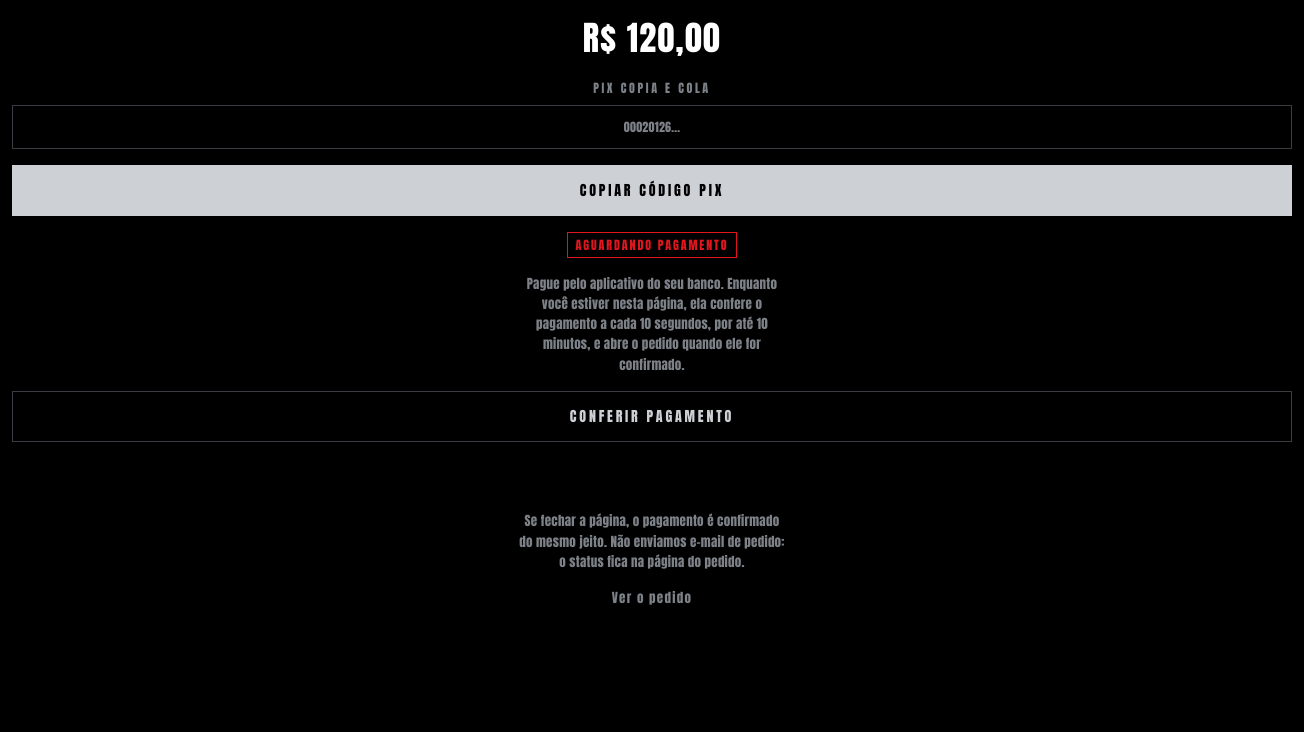
Test: o botao Conferir pagamento › sem novidade: diz que ainda nao apareceu, como status, e fica
This screenshot has width=1304, height=732.
Click the button "Conferir pagamento". click: (652, 416)
box: x1=12 y1=391 x2=1292 y2=442
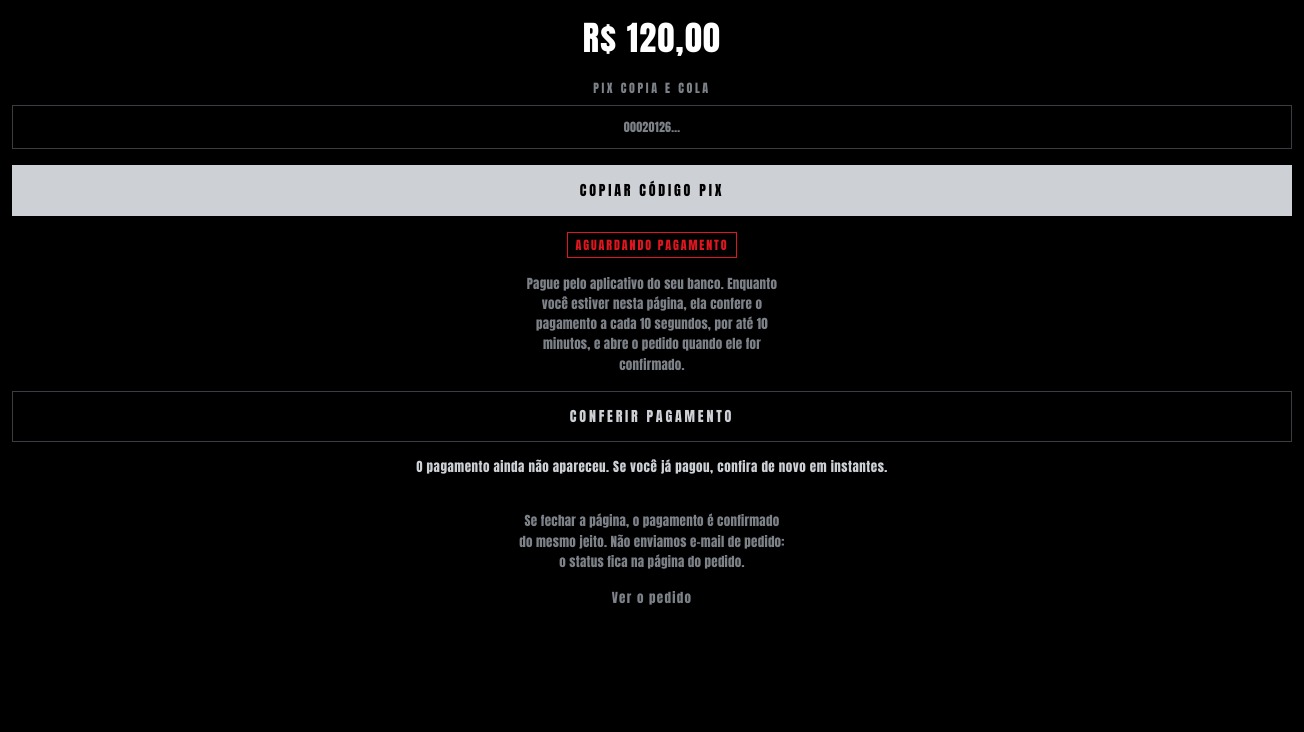
Result: the message shows "ainda não apareceu" at x1=416 y1=457 x2=888 y2=476
